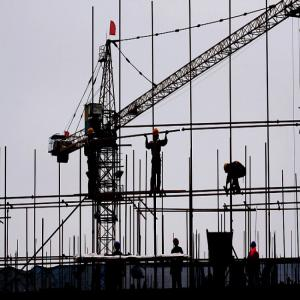yellow: (153, 129, 160, 142), (88, 129, 95, 139), (224, 164, 230, 175)
